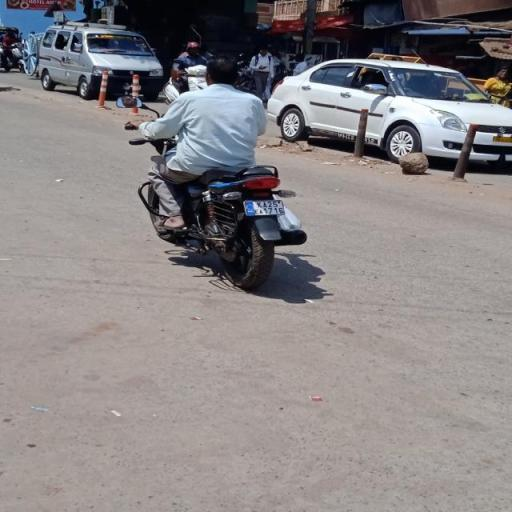bike: (112, 54, 317, 288)
numberplate: (242, 194, 290, 220)
withouthelmet: (208, 58, 238, 82)
